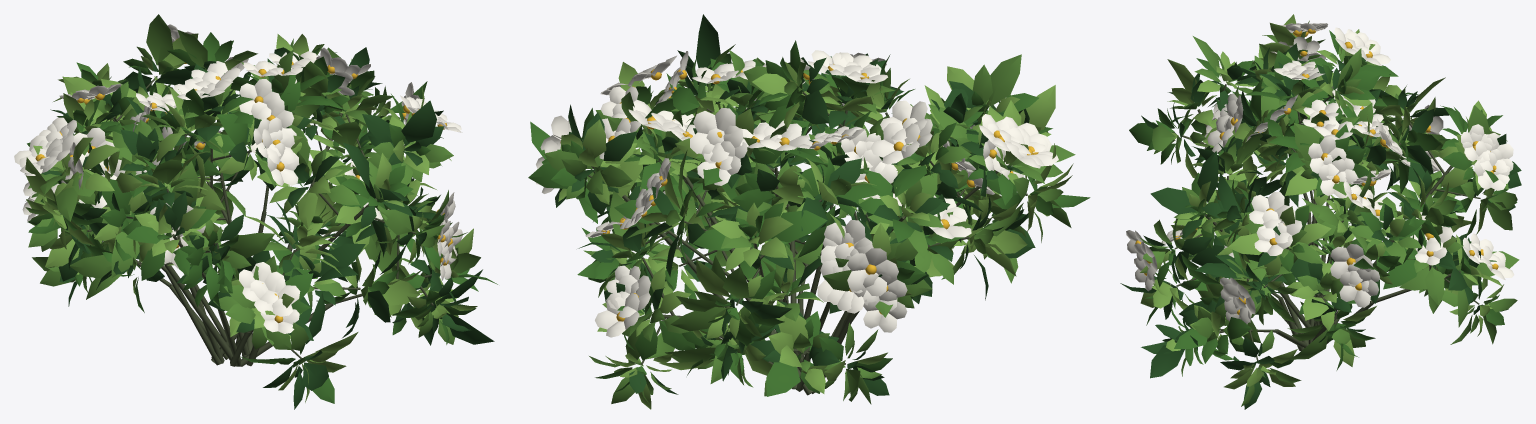
File: shrub-01-white.glb
The picture shows the model from 3 angles, left to right: view 1: azimuth 30°, elevation 25°; view 2: azimuth 150°, elevation 25°; view 3: azimuth 270°, elevation 25°; orthographic projection. The views are drawn at different scales.
Visible parts, largest first — view 1: foliage-3, foliage-4, foliage-1, foliage-2, flowers, branches, flower-centers; view 2: foliage-3, flowers, foliage-2, foliage-4, foliage-1, branches, flower-centers; view 3: foliage-3, foliage-2, flowers, foliage-4, foliage-1, branches, flower-centers.
Boxes of the visible parts, left/top/right/bottom form: foliage-3: left=25, top=14, right=480, bottom=365; foliage-4: left=25, top=33, right=477, bottom=402; foliage-1: left=41, top=47, right=494, bottom=409; foliage-2: left=27, top=32, right=497, bottom=403; flowers: left=14, top=24, right=462, bottom=333; branches: left=85, top=76, right=433, bottom=366; flower-centers: left=35, top=39, right=452, bottom=323; foliage-3: left=544, top=44, right=1075, bottom=404; flowers: left=536, top=50, right=1058, bottom=337; foliage-2: left=528, top=40, right=1090, bottom=396; foliage-4: left=558, top=62, right=1073, bottom=409; foliage-1: left=555, top=14, right=1035, bottom=395; branches: left=588, top=92, right=1027, bottom=395; flower-centers: left=560, top=64, right=1038, bottom=321; foliage-3: left=1139, top=33, right=1519, bottom=406; foliage-2: left=1129, top=30, right=1517, bottom=382; flowers: left=1126, top=23, right=1514, bottom=324; foliage-4: left=1140, top=14, right=1503, bottom=389; foliage-1: left=1120, top=43, right=1521, bottom=409; branches: left=1174, top=70, right=1480, bottom=363; flower-centers: left=1135, top=29, right=1498, bottom=314.
Bounding box in the file's own units: 1.31 × 0.8839 × 1.12.
